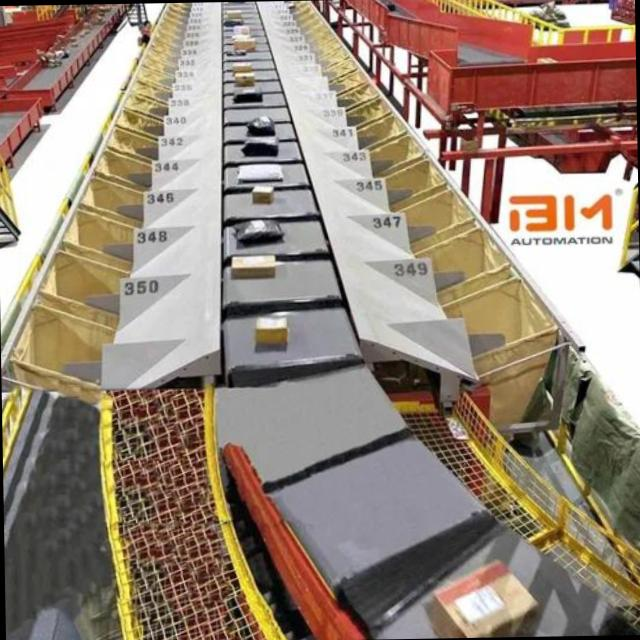box: (428, 560, 537, 638), (231, 254, 273, 277), (256, 317, 286, 342), (251, 185, 273, 202), (233, 35, 254, 51), (235, 72, 253, 85), (232, 61, 252, 72), (228, 9, 244, 18)
mailer: (232, 219, 283, 244), (238, 164, 281, 182), (241, 137, 278, 155), (246, 115, 274, 136), (232, 86, 261, 103), (235, 26, 249, 38), (225, 18, 243, 26), (226, 49, 246, 56)
